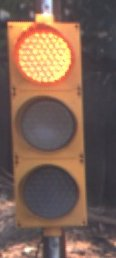Red: (3, 22, 105, 248)
